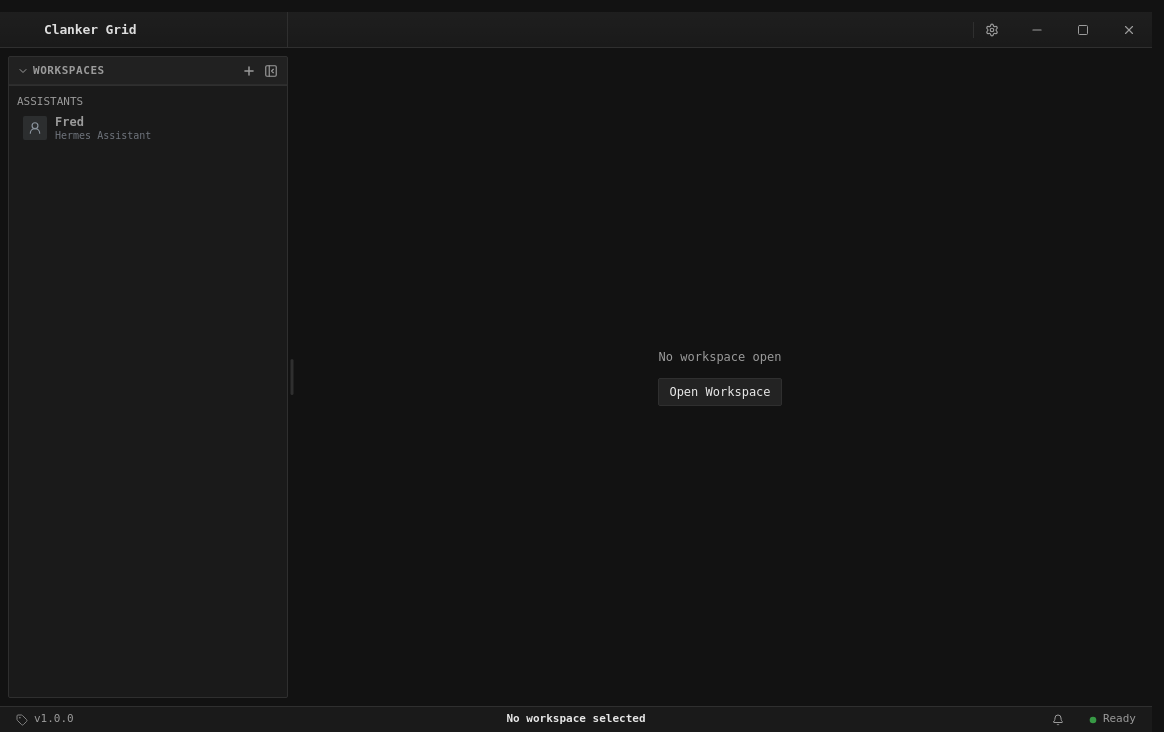
Test case: normal empty shell Assistants roster › connected: lists Fred; clicking Fred enters the normal shell with no Workspace, registration, spawn or checkout context
What coordinates should you click on to do the following:
click the button "Fred Hermes Assistant"
I would click on:
 (148, 128)
Its box is [17,114,279,142].
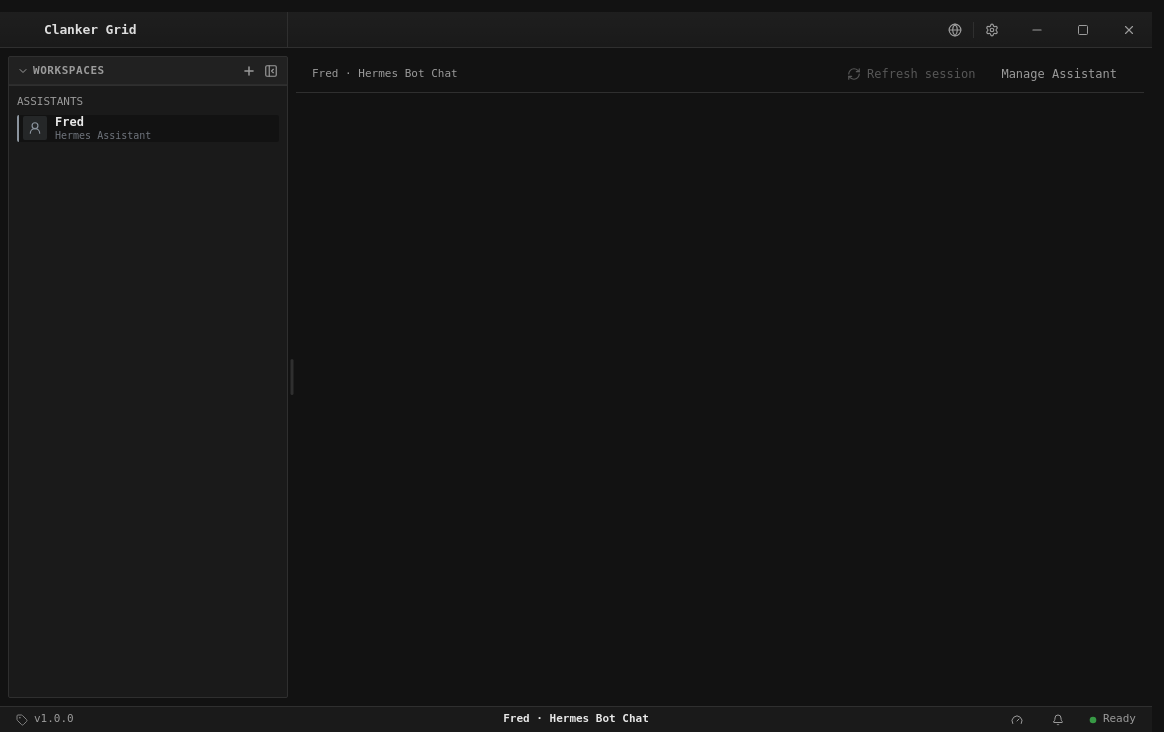
Check: the button named "Toggle browser panel" is shown, box [943,18,967,42]
